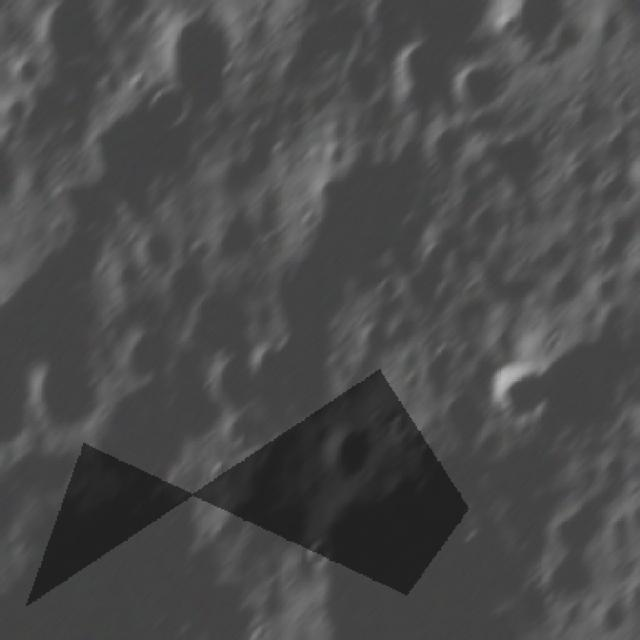crater: (320, 478, 531, 638), (81, 105, 201, 210), (530, 320, 630, 442), (24, 348, 113, 437), (164, 8, 233, 107), (174, 286, 269, 352), (470, 130, 547, 204), (388, 42, 454, 126), (42, 178, 129, 236), (193, 351, 265, 417), (316, 416, 382, 484), (34, 4, 104, 68), (484, 356, 545, 429), (109, 322, 174, 388), (253, 492, 315, 558), (498, 3, 576, 55), (451, 58, 514, 122), (548, 501, 614, 559), (207, 208, 268, 270), (540, 554, 606, 608), (334, 52, 386, 116), (148, 76, 198, 139), (401, 260, 453, 315), (134, 228, 188, 275), (354, 320, 398, 366), (564, 155, 604, 199), (298, 536, 334, 572), (387, 408, 416, 442), (374, 273, 398, 313)
